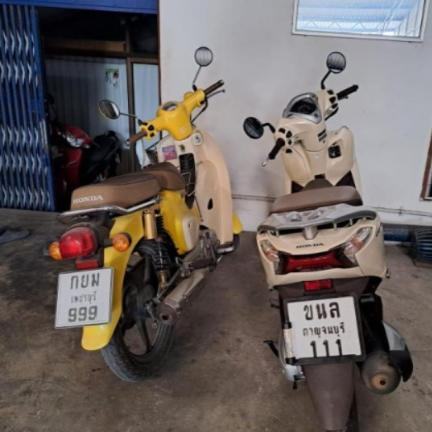1: (332, 339, 346, 356), (306, 340, 319, 358), (320, 339, 331, 358)
9: (67, 307, 77, 323), (78, 307, 88, 322), (89, 306, 99, 321)
A01: (69, 275, 78, 290)
A02: (302, 303, 314, 321)
A25: (315, 303, 327, 320)
A33: (91, 272, 101, 288)
A34: (80, 274, 89, 289)
A36: (328, 301, 342, 319)
KRI: (299, 320, 351, 342)
PBI: (69, 290, 98, 305)
